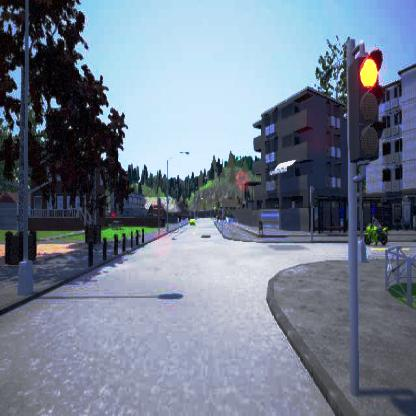vehicle: (363, 217, 388, 244)
